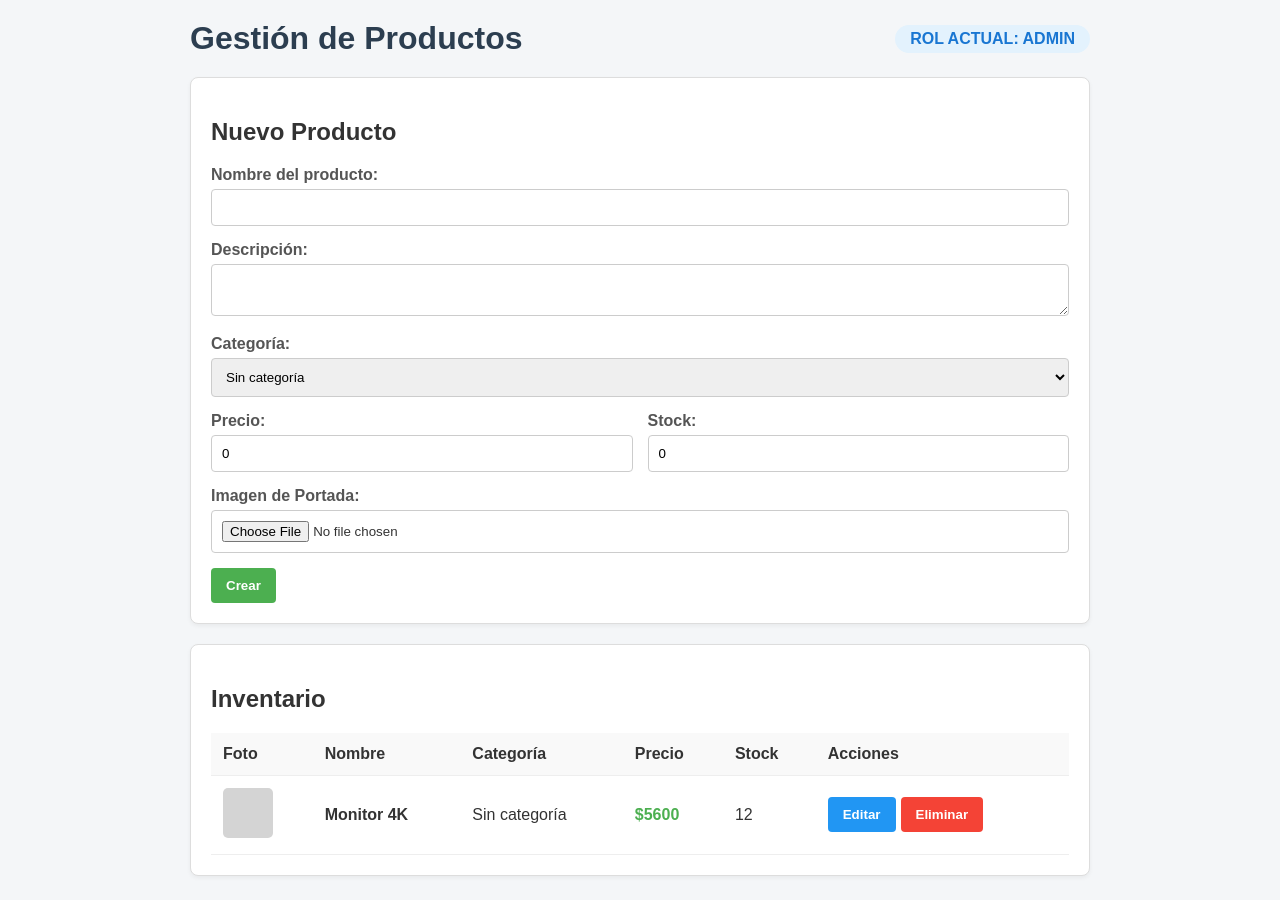
Test: Productos.vue (Inventario Admin) › usa el botón cancelar después de editar
Step 1. Click the button with class "btn-edit" → [862, 815], box [828,797,896,832]
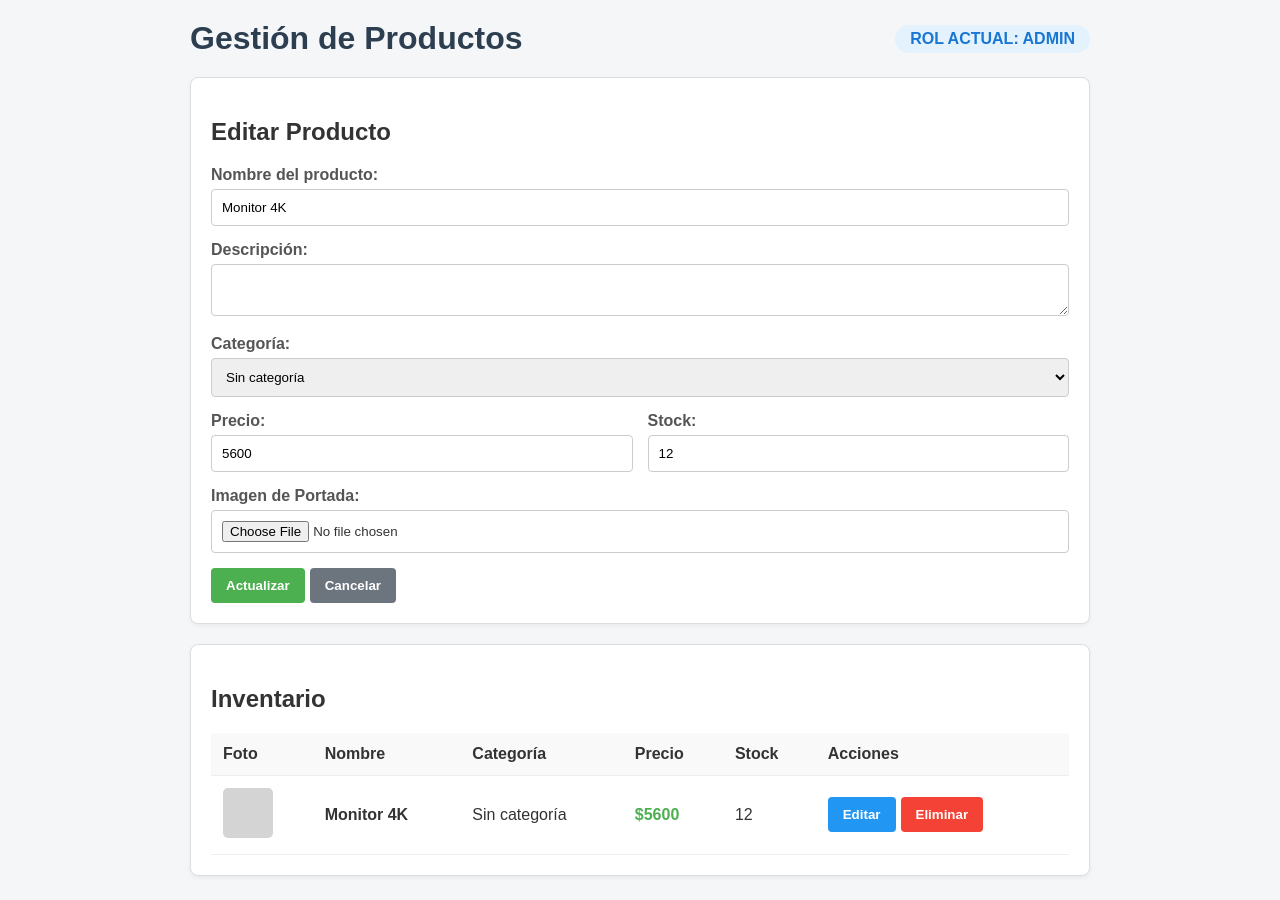
Step 2. Click the button "Cancelar" → [353, 585], box [310,568,396,603]
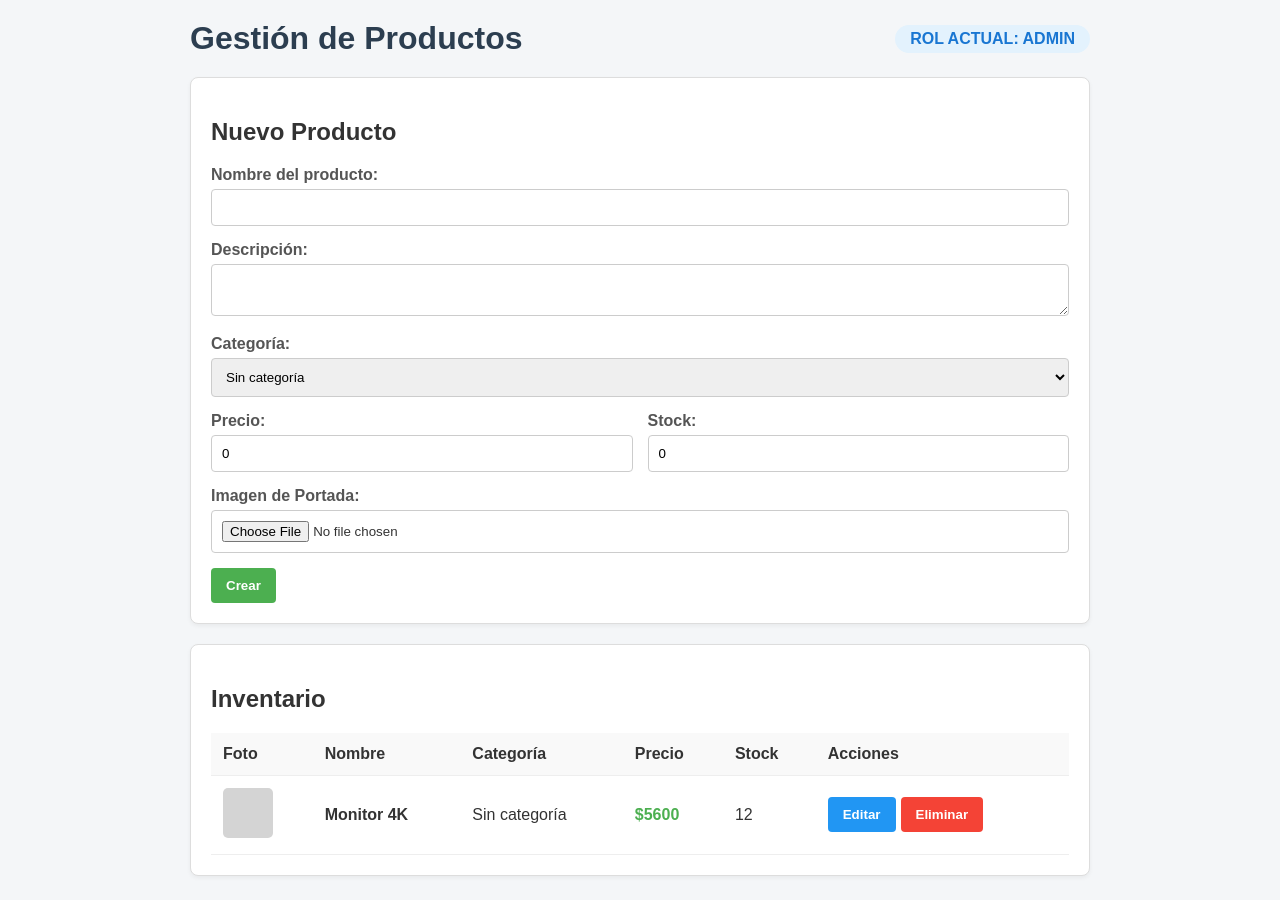
expect the text "Nuevo Producto" is shown: met, box [211,118,396,145]
